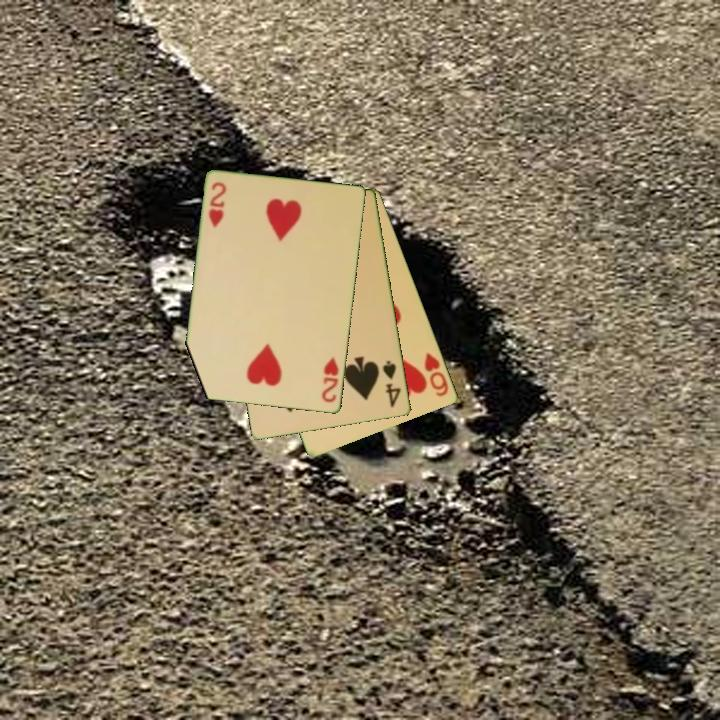2h: (318, 353, 342, 406), (205, 179, 229, 231)
4s: (379, 357, 404, 410)
6h: (421, 349, 452, 400)
